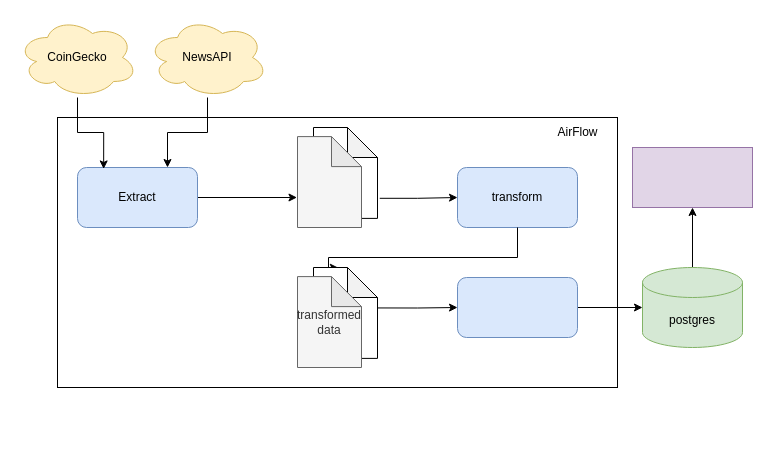
The diagram is 770 pixels wide and 475 high, and some of its shapes have lost their labels. Here are the shapes that lost their labels. From the top down, the centre of each, then its label:
pixel 329 182: extracted data
pixel 692 177: Metabase Dashboard
pixel 517 307: load
